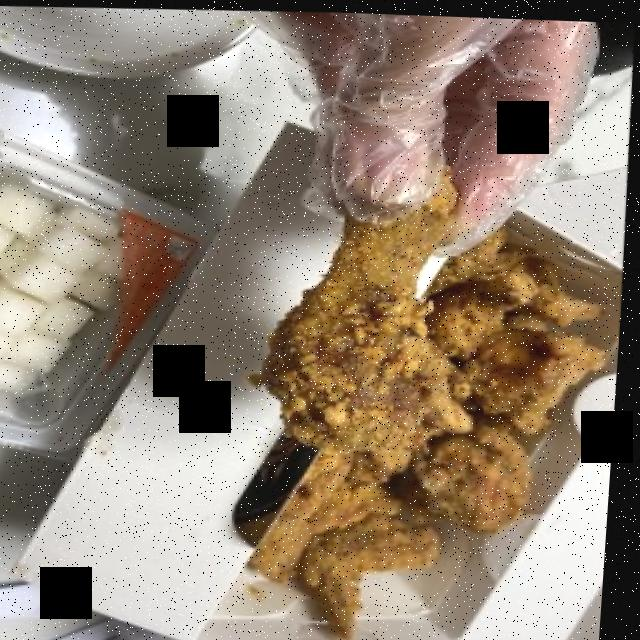Frango: (242, 181, 615, 640)
